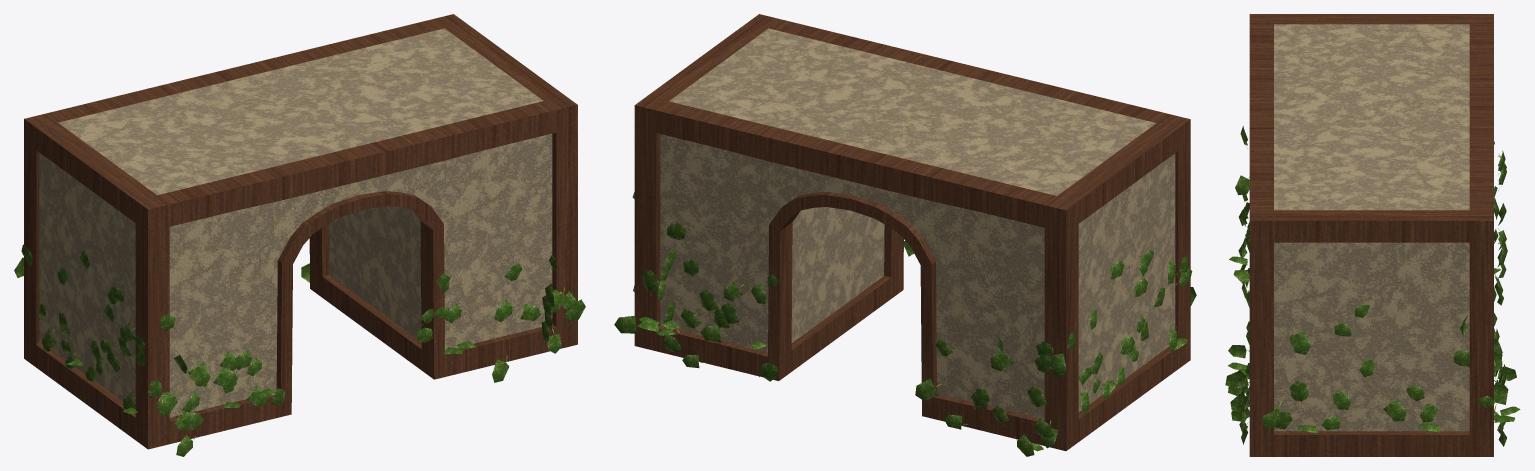
File: TheTrialHaidAssets.fbx
The picture shows the model from 3 angles, left to right: view 1: azimuth 30°, elevation 25°; view 2: azimuth 150°, elevation 25°; view 3: azimuth 270°, elevation 25°; orthographic projection.
Visible parts, largest first — view 1: Arch, Ivy.002; view 2: Arch, Ivy.002; view 3: Arch, Ivy.002.
Part boxes in pixels (x1,y1,x2,y2): Arch: (24, 14, 577, 449); Ivy.002: (14, 244, 585, 456); Arch: (634, 14, 1190, 450); Ivy.002: (614, 192, 1196, 456); Arch: (1249, 14, 1493, 456); Ivy.002: (1225, 126, 1520, 446).
Size of the model in its own units: 639 by 339 by 362.
